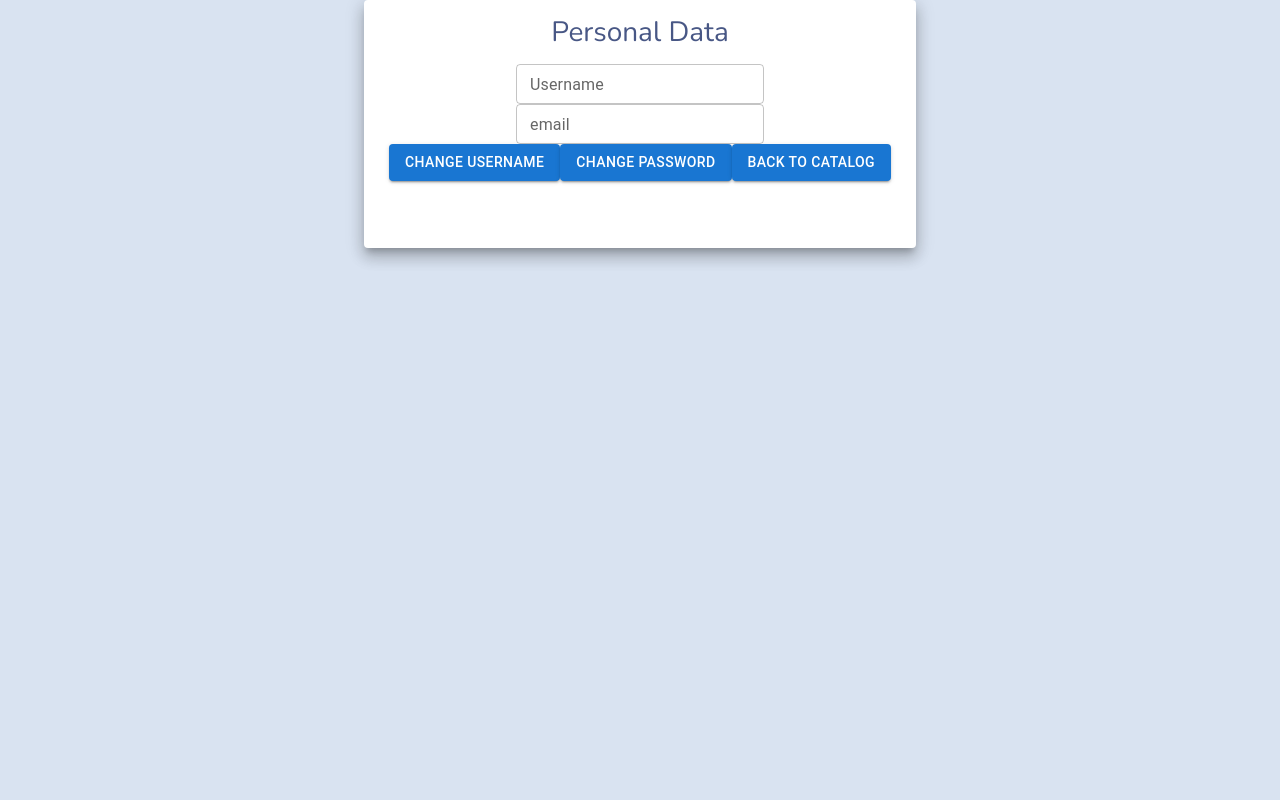
Client view page renders properly when trying to change password
Click the button "Change password" at {"x": 646, "y": 162}, box [560, 144, 732, 180]
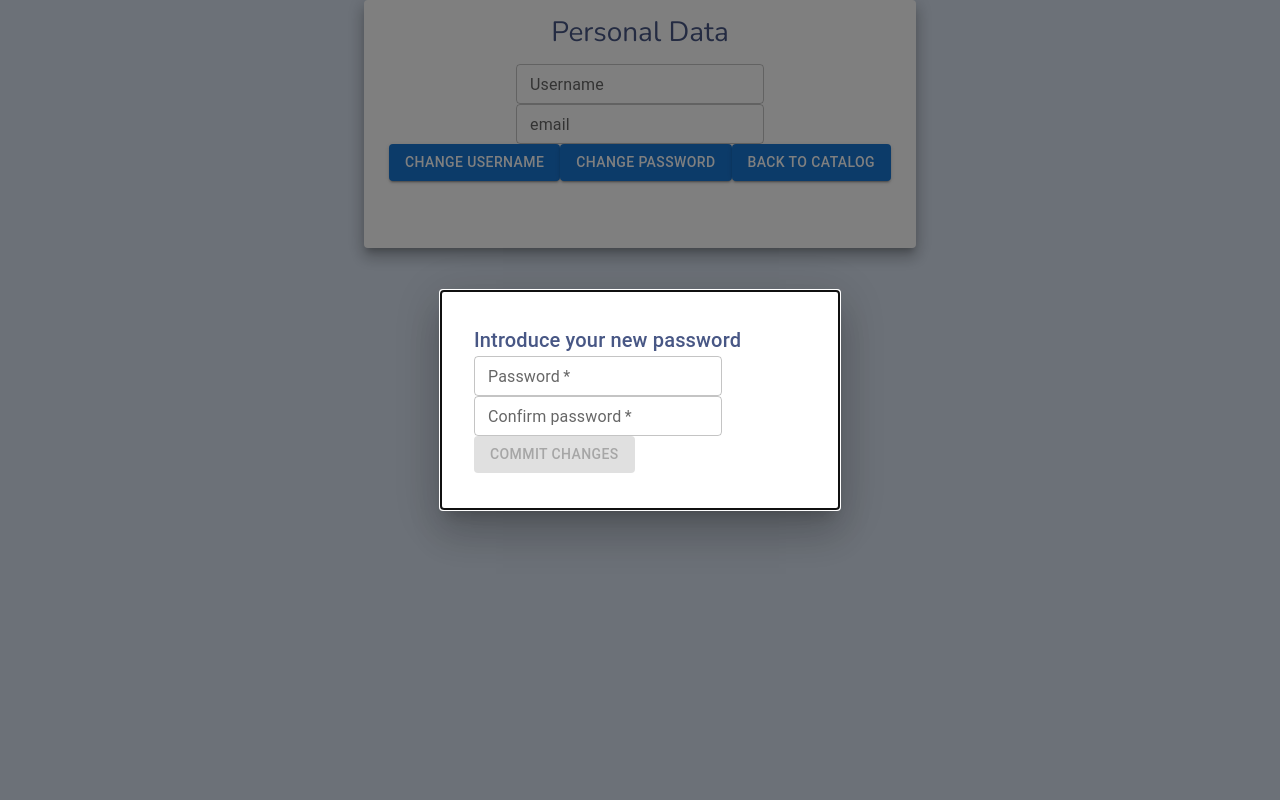
expect the heading "Introduce your new password" is shown: met, box [474, 328, 741, 352]
expect the button "Commit changes" is shown: met, box [474, 436, 635, 472]
